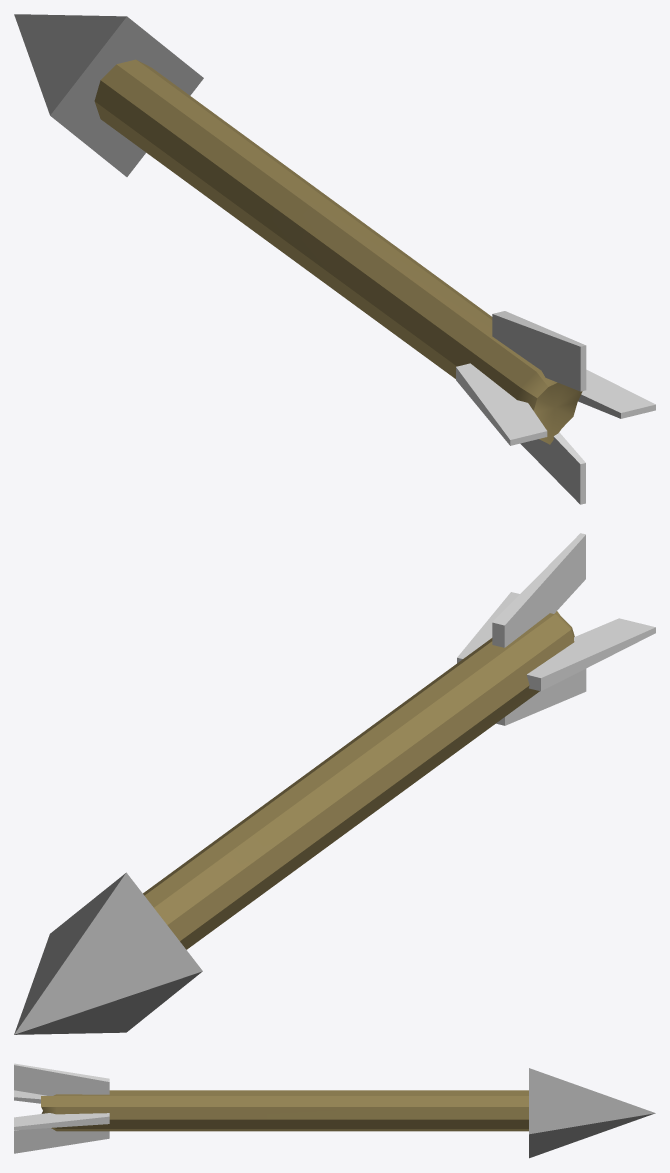
The model's file is HeroArcherArrow.fbx.
3 renders of one model, top to bottom at view 1: azimuth 30°, elevation 25°; view 2: azimuth 150°, elevation 25°; view 3: azimuth 270°, elevation 25°, orthographic. The views are drawn at different scales.
Parts seen in each view (by area): view 1: ArrowCombined; view 2: ArrowCombined; view 3: ArrowCombined.
Boxes of the visible parts, left/top/right/bottom form: ArrowCombined: left=14, top=14, right=655, bottom=504; ArrowCombined: left=14, top=533, right=655, bottom=1034; ArrowCombined: left=14, top=1063, right=655, bottom=1158.
Bounding box in the file's own units: 0.1285 × 0.1331 × 0.8249.
